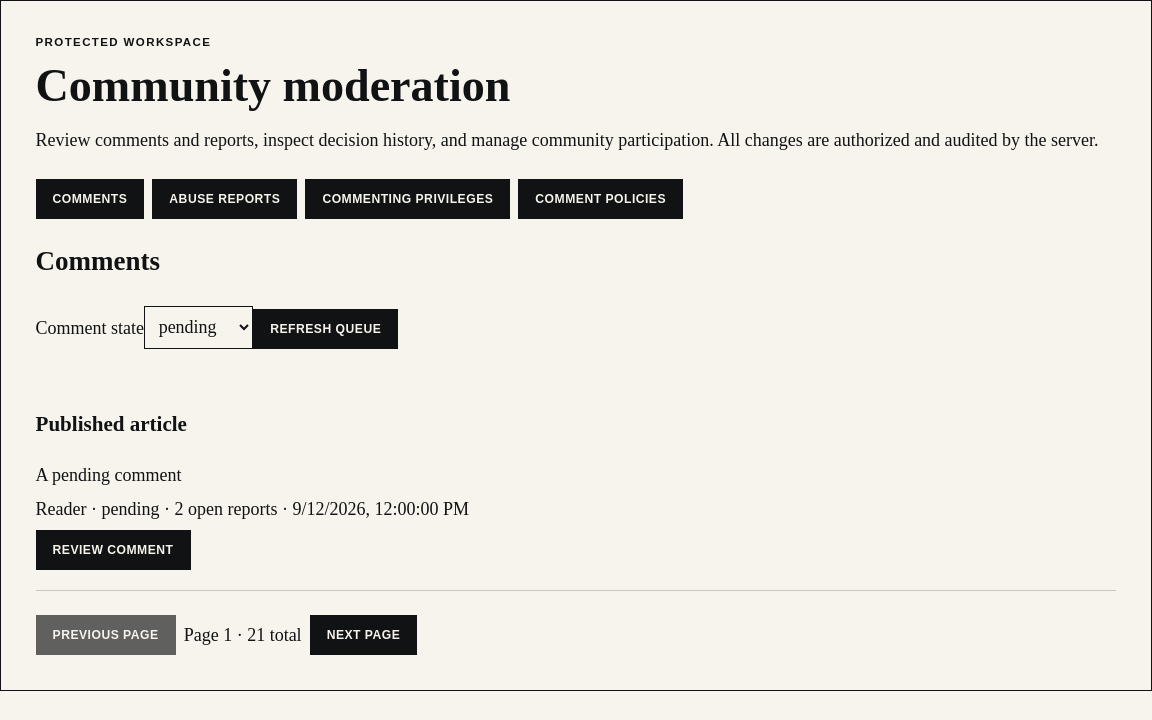
Test: moderation workspace › preserves a rejected moderation reason and offers a reload after a version conflict
Click the button "Review comment" at (113, 550), box [36,530,190,570]
(page scrolled)
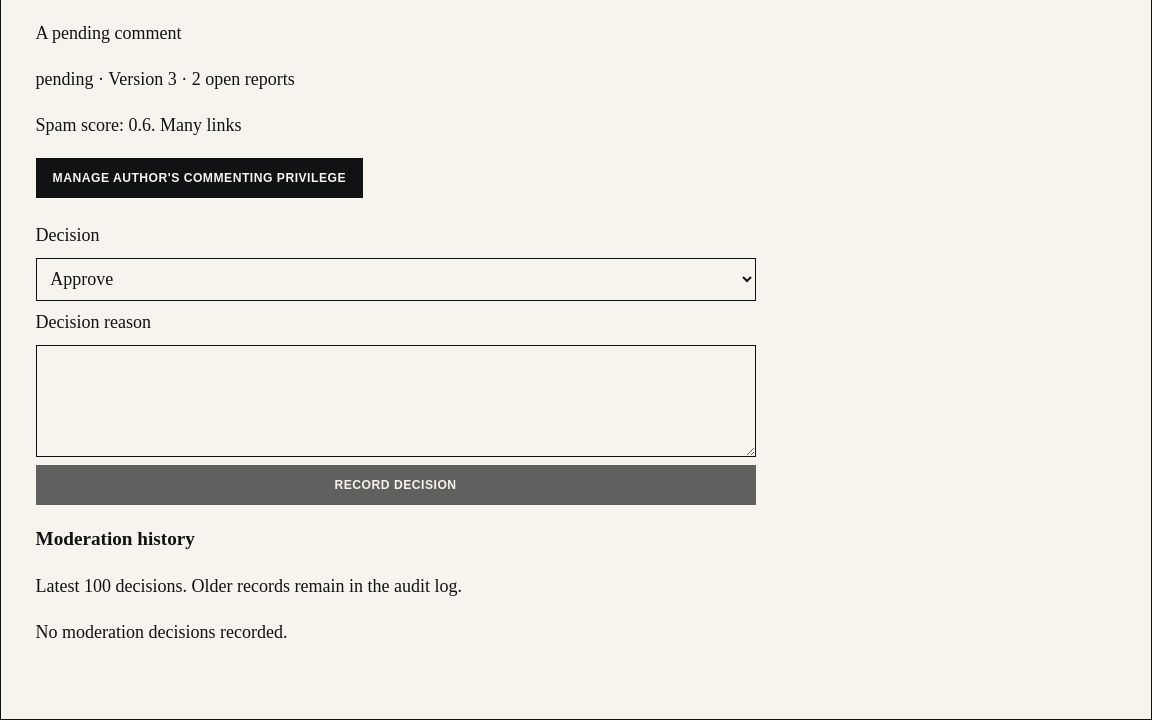
Type "Policy checked" into the text box labelled "Decision reason" at (396, 401), box [36,345,756,457]
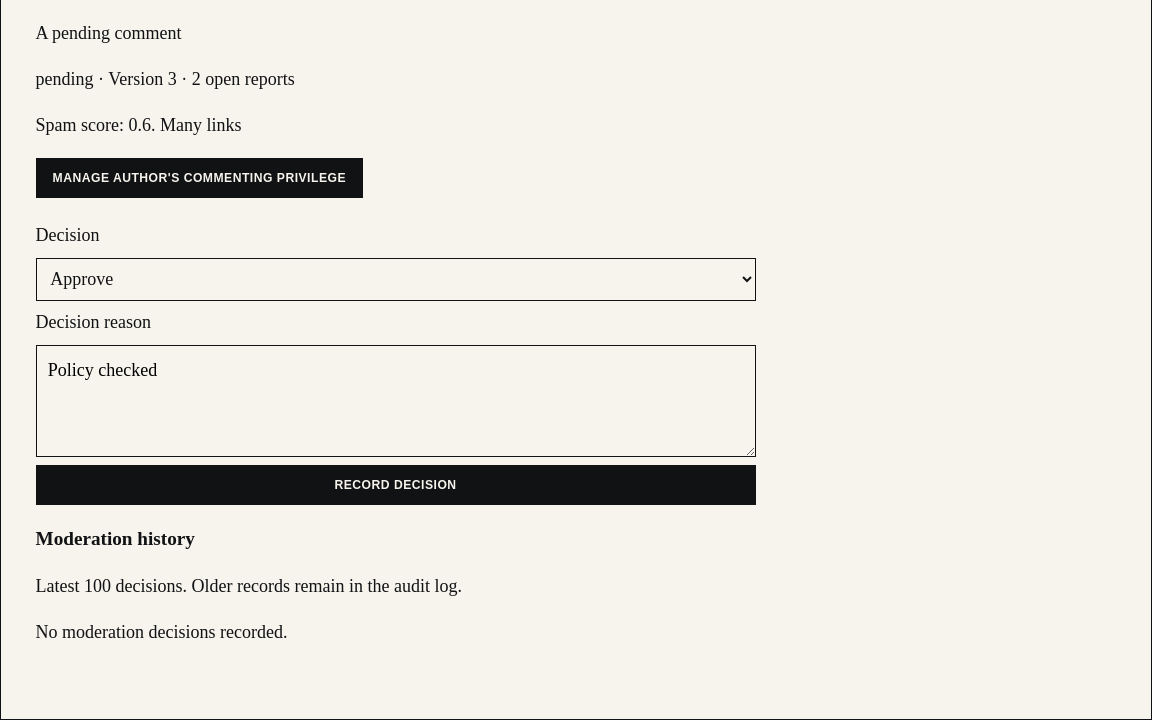
Click the button "Record decision" at (396, 485), box [36,465,756,505]
(page scrolled)
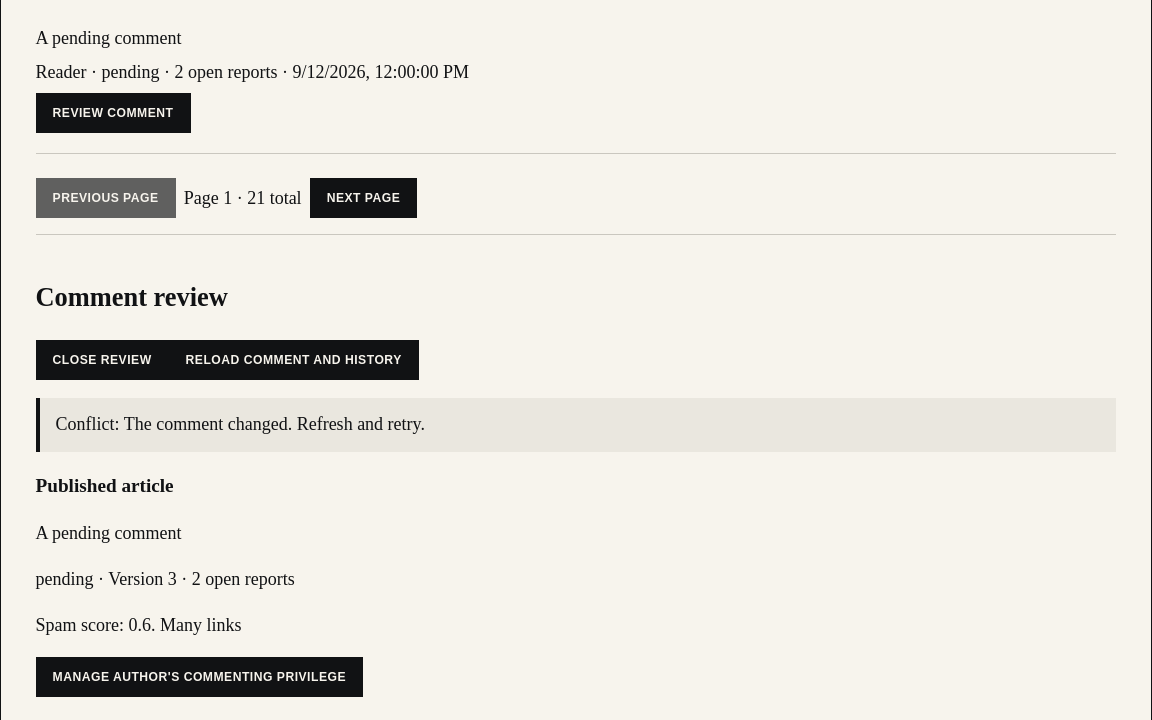
Check: the button "Reload comment and history" is enabled, box [169,340,419,380]
Check: the message shows "Refresh and retry", box [56,414,425,434]
